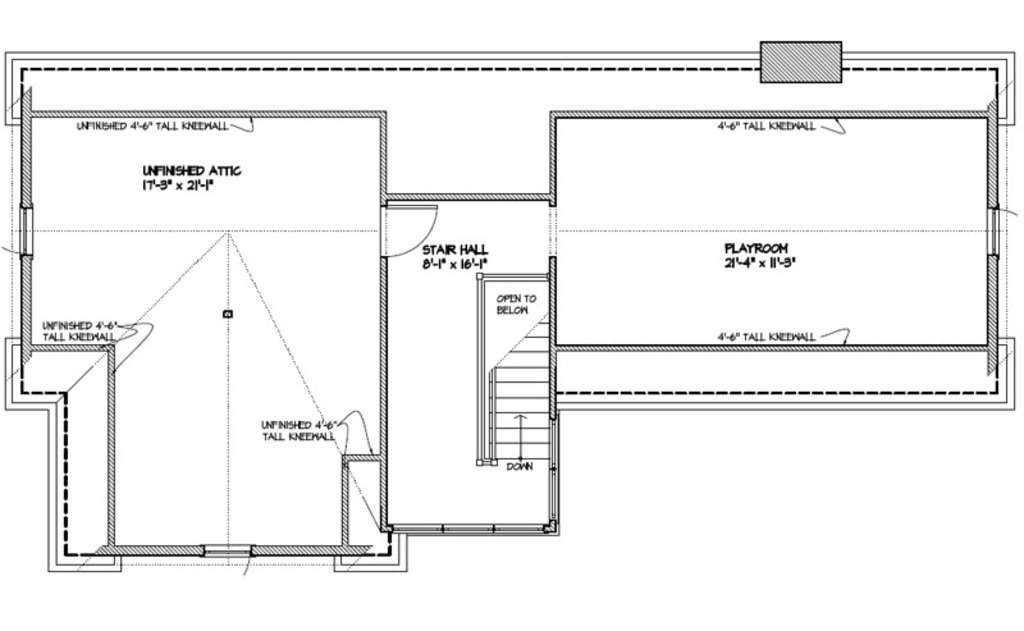door: (380, 204, 441, 258)
stairs: (470, 269, 552, 471)
windows: (200, 539, 259, 558), (17, 203, 37, 256), (983, 205, 1001, 258)
